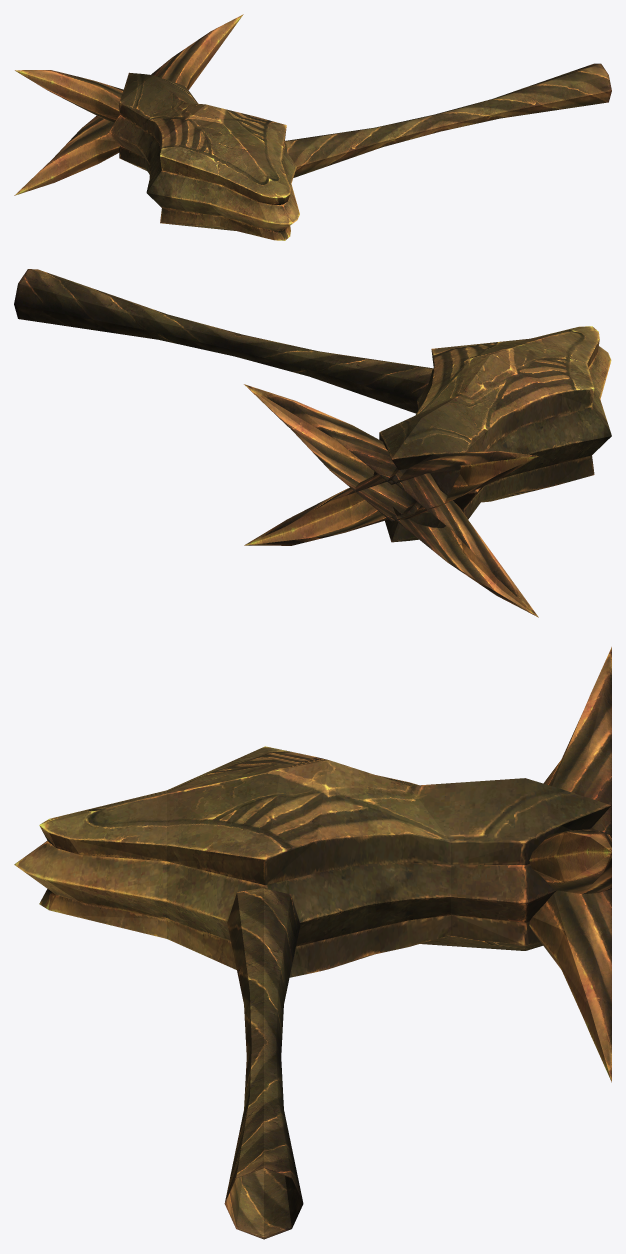
Rendered from juqing_yewai_562_langan01c.obj.
3 views of the same model, one above another, from view 1: azimuth 30°, elevation 25°; view 2: azimuth 150°, elevation 25°; view 3: azimuth 270°, elevation 25° (orthographic). The views are drawn at different scales.
Visible parts, largest first — view 1: Object02; view 2: Object02; view 3: Object02.
Boxes of the visible parts, x1=… form: Object02: x1=14, y1=14, x2=611, y2=240; Object02: x1=14, y1=269, x2=611, y2=617; Object02: x1=14, y1=647, x2=611, y2=1239.
Size of the model in its own units: 167 by 40.69 by 95.6.
Materials: 1 (1 with a texture image).
